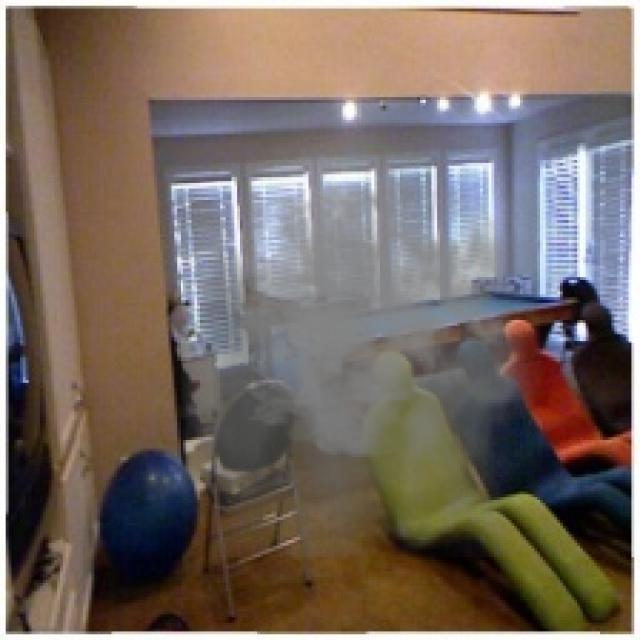smoke: (174, 177, 543, 557)
